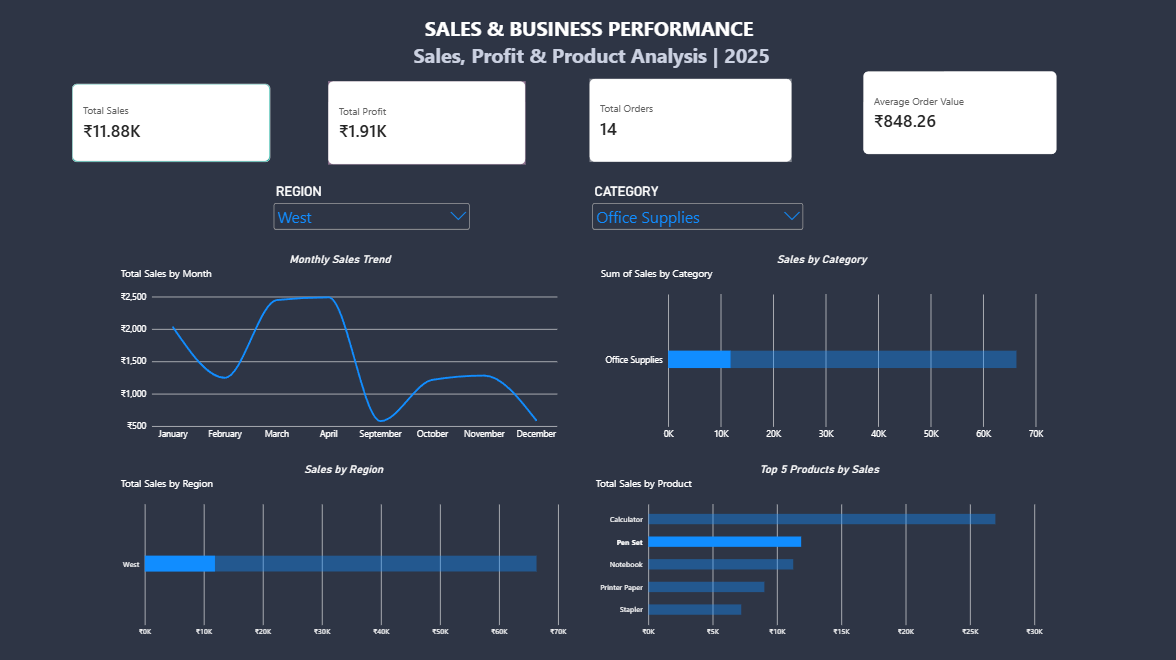

The dashboard page shown, as its layout file describes it:
{"tool":"powerbi","page":{"name":"Page 1","canvas":[1920,1080],"ordinal":0},"visuals":[{"type":"cardVisual","fields":{"Data":["Sales Data.Total Sales"]},"box":[130,144,320,126],"z":0},{"type":"cardVisual","fields":{"Data":["Sales Data.Total Profit"]},"box":[542,140,318,134],"z":1000},{"type":"cardVisual","fields":{"Data":["Sales Data.Total Orders"]},"box":[964,136,326,134],"z":2000},{"type":"cardVisual","fields":{"Data":["Sales Data.Average Order Value"]},"box":[1406,124,312,134],"z":3000},{"type":"textbox","box":[392,32,1144,92],"z":4000},{"type":"lineChart","title":"Monthly Sales Trend","fields":{"Category":["Sales Data.Order Date.Variation.Date Hierarchy.Month"],"Y":["Sales Data.Total Sales"]},"box":[192,402,740,338.3],"z":5000},{"type":"clusteredBarChart","title":"Sales by Category","fields":{"Category":["Sales Data.Category"],"Y":["Sum(Sales Data.Sales)"]},"box":[966,402,746,338],"z":6000},{"type":"clusteredBarChart","title":"Sales by Region","fields":{"Category":["Sales Data.Region"],"Y":["Sales Data.Total Sales"]},"box":[192,740,752,316],"z":7000},{"type":"clusteredBarChart","title":"Top 5 Products by Sales","fields":{"Category":["Sales Data.Product"],"Y":["Sales Data.Total Sales"]},"box":[958,740,754,316],"z":8000},{"type":"slicer","fields":{"Values":["Sales Data.Region"]},"box":[450,304,325.7,97.1],"z":9000},{"type":"slicer","fields":{"Values":["Sales Data.Category"]},"box":[964,304,350,104],"z":10000}]}

Visuals, with their boxes in screenshot pixels (x1, y1, x2, y2), scaled from the page's 1920x1080 canvas onto the 1176x660 screenshot:
cardVisual - Sales Data.Total Sales: box=[80, 88, 276, 165]
cardVisual - Sales Data.Total Profit: box=[332, 86, 527, 167]
cardVisual - Sales Data.Total Orders: box=[590, 83, 790, 165]
cardVisual - Sales Data.Average Order Value: box=[861, 76, 1052, 158]
textbox: box=[240, 20, 941, 76]
"Monthly Sales Trend" lineChart: box=[118, 246, 571, 452]
"Sales by Category" clusteredBarChart: box=[592, 246, 1049, 452]
"Sales by Region" clusteredBarChart: box=[118, 452, 578, 645]
"Top 5 Products by Sales" clusteredBarChart: box=[587, 452, 1049, 645]
slicer - Sales Data.Region: box=[276, 186, 475, 245]
slicer - Sales Data.Category: box=[590, 186, 805, 249]
